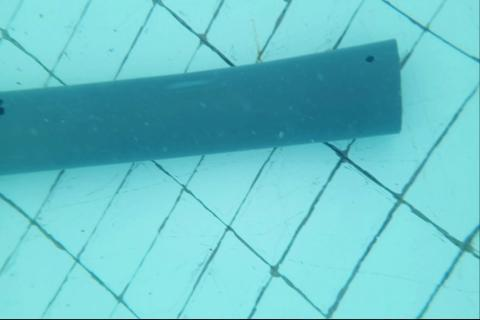kebocoran: (364, 54, 375, 63), (0, 97, 5, 116)
